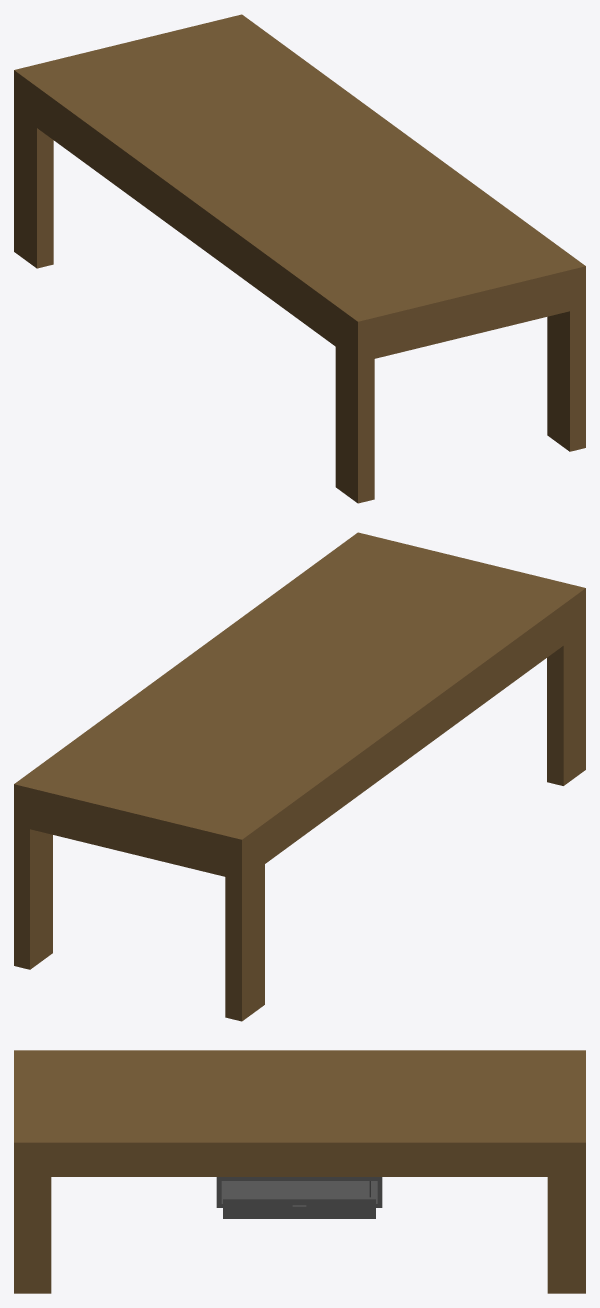
File: Long desk.fbx
3 renders of one model, top to bottom at view 1: azimuth 30°, elevation 25°; view 2: azimuth 150°, elevation 25°; view 3: azimuth 270°, elevation 25°, orthographic. The views are drawn at different scales.
Parts seen in each view (by area): view 1: Cube; view 2: Cube; view 3: Cube.
Part boxes in pixels (x1=…): Cube: x1=14, y1=14, x2=585, y2=503; Cube: x1=14, y1=532, x2=585, y2=1021; Cube: x1=14, y1=1050, x2=585, y2=1293.
Bounding box in the file's own units: 236 × 150 × 515.
